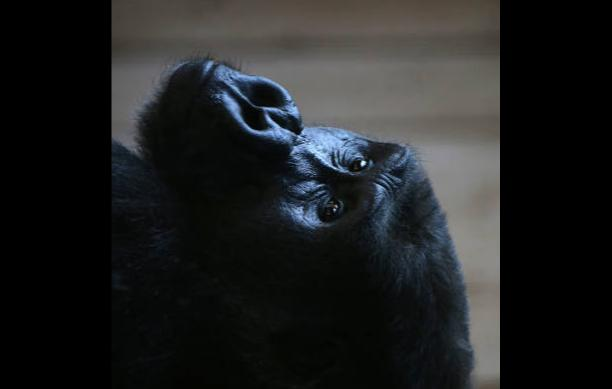gorille_Autres: (111, 35, 495, 389)
